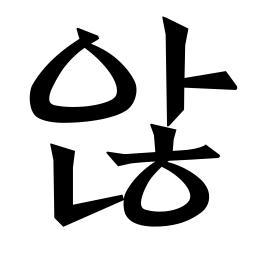Gaji: (156, 66, 200, 102)
